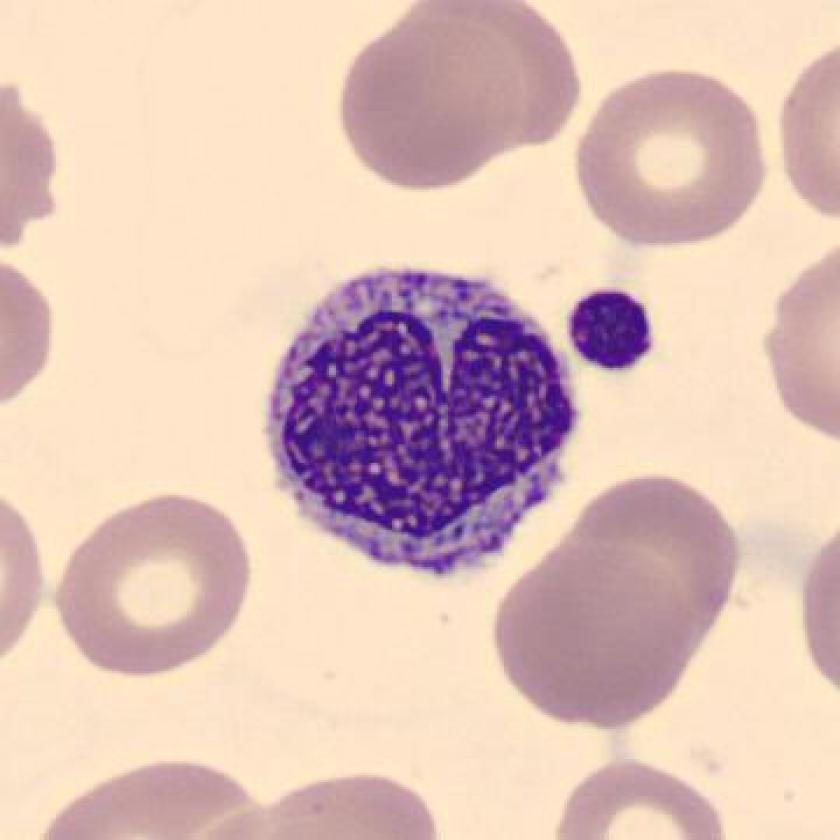monocyte: (249, 244, 599, 603)
